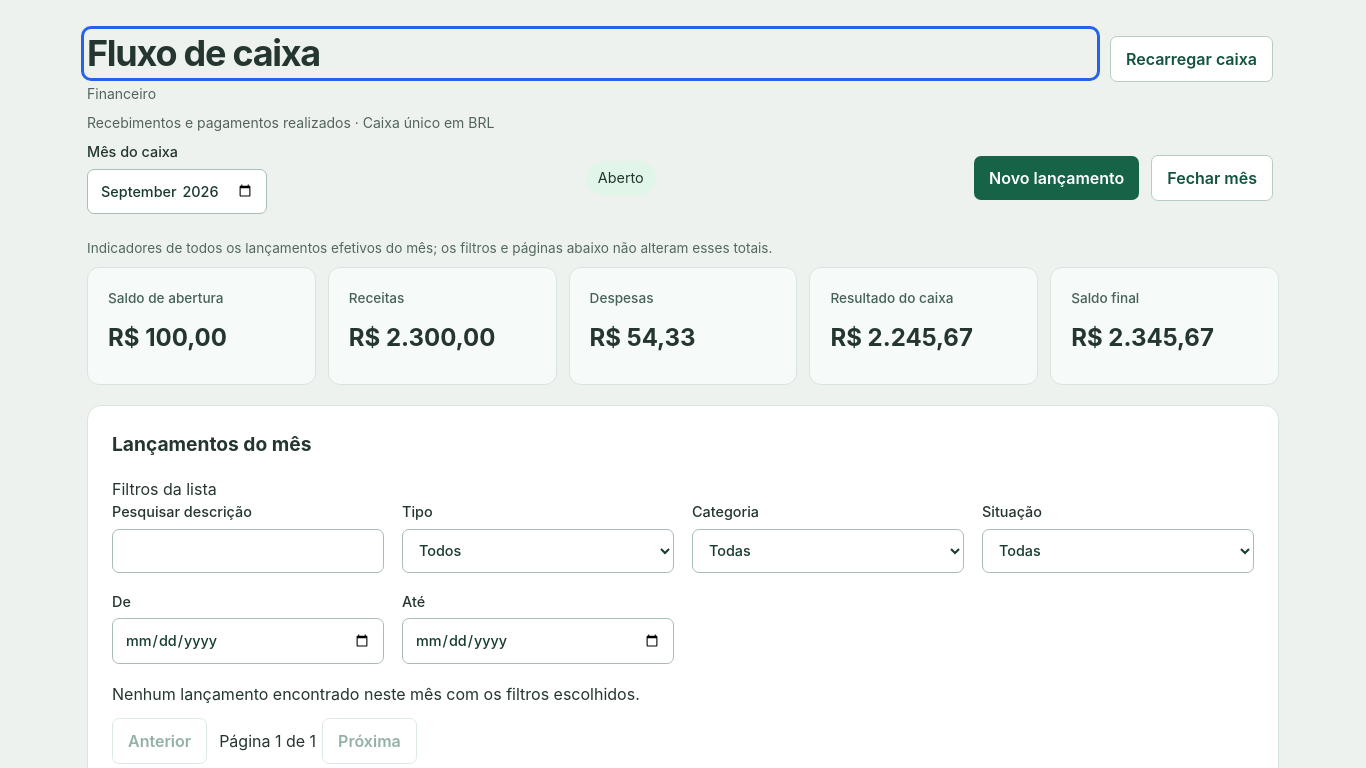
Scenario: Caixa durante a consulta de outro mês › retira os indicadores do mês anterior enquanto a nova consulta está pendente
Expected: the text "R$ 2.345,67" is shown, [1071,323,1214,352]
Replace the text in the field labelled "Mês do caixa" with "2026-08" at (177, 192), box [87,169,267,214]
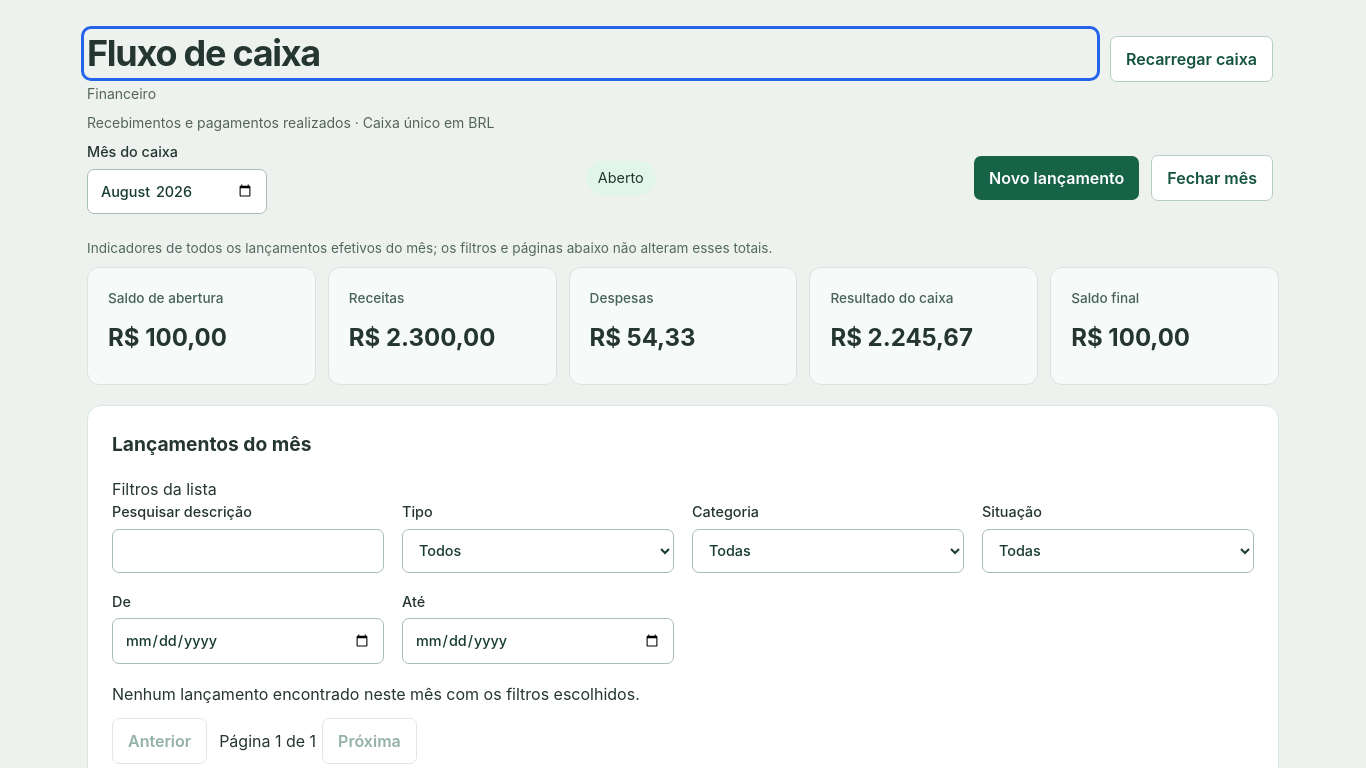
Expected: the element named "Resumo mensal" is shown, [87,267,1279,385]
Now the text "R$ 2.345,67" is gone
